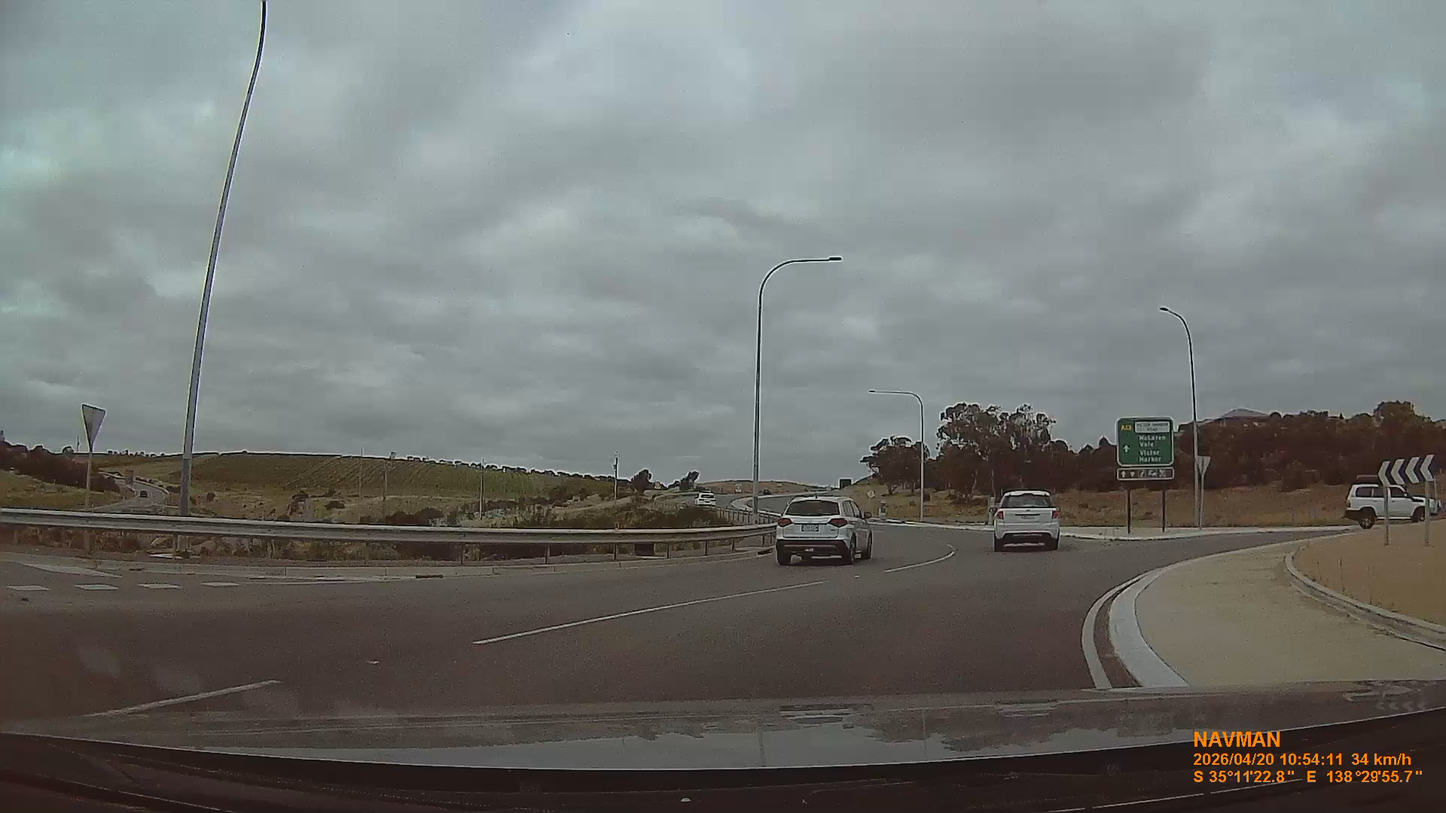road barriers: (0, 510, 774, 560)
